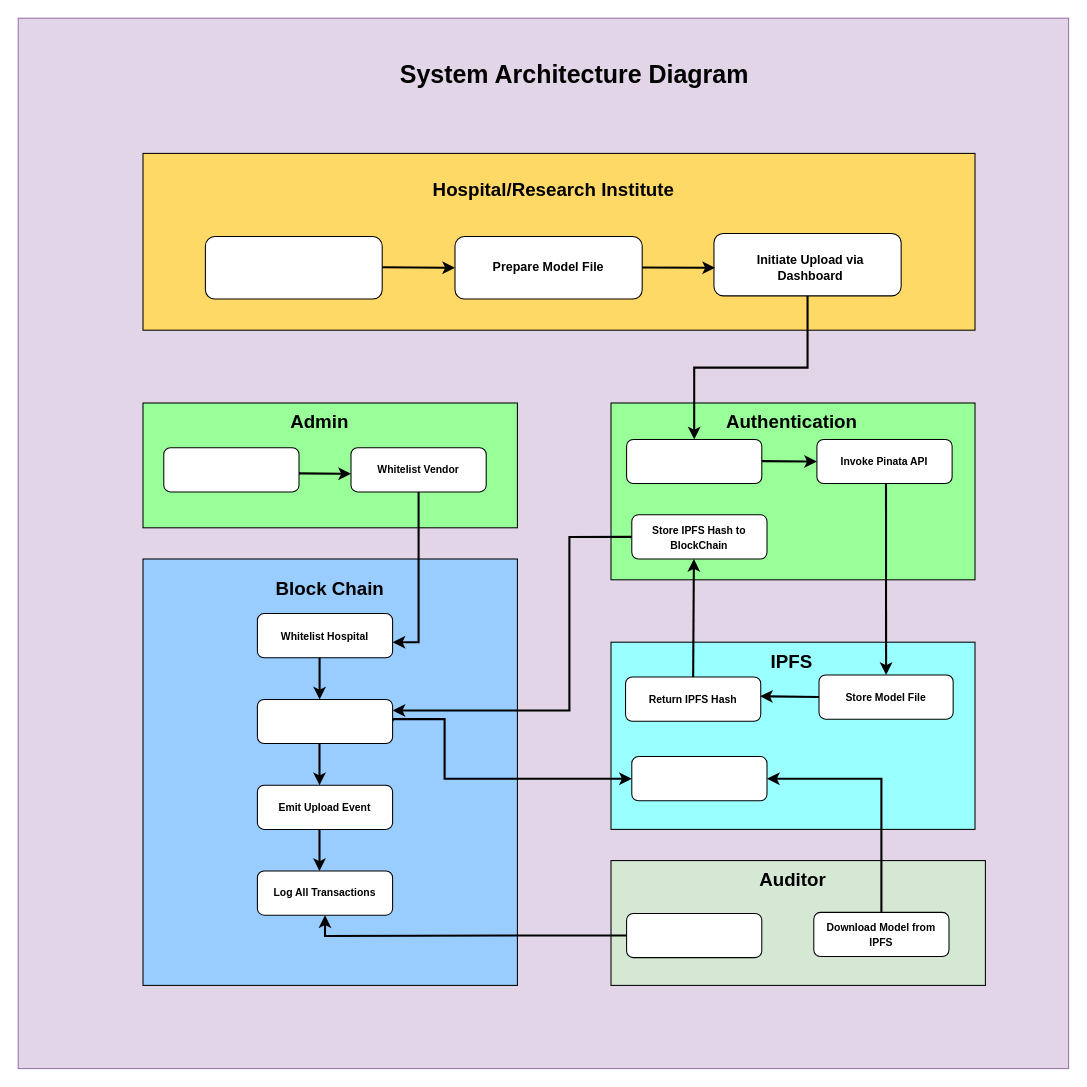
Image size: 1087x1087. Some labels were removed from this diagram. The centre of each missing label's shape, as x and y in pixels:
Admin Authentication: the point at 231,469
Local Model Training: the point at 293,267
MetaMask Authentication: the point at 694,461
Provide Model Download Link: the point at 699,778
Query On-Chain Records: the point at 694,935
Store Model Metadata: the point at 324,721
